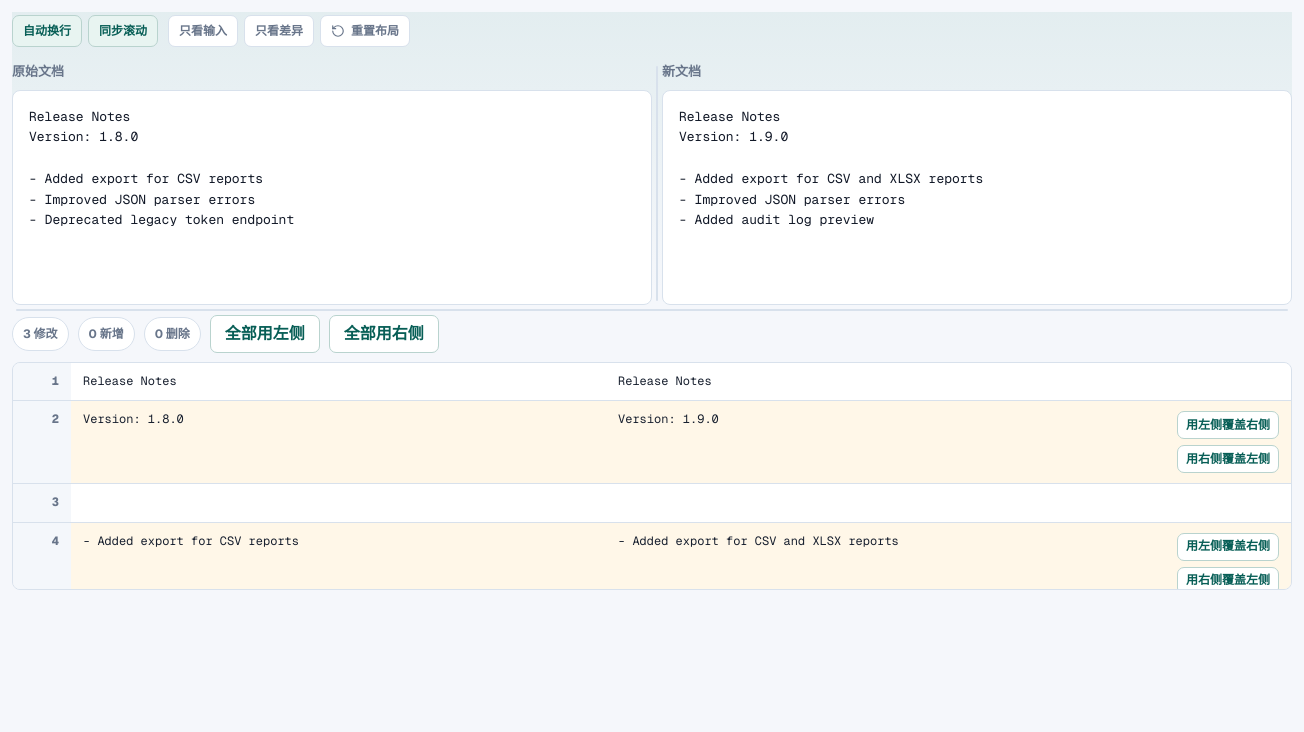
Test case: workbench keyboard and theme interactions › keeps both document editors when focusing on the input pane
What coordinates should you click on to do the following:
click the button "只看输入"
I would click on:
 (203, 31)
Its box is [168,15,238,47].
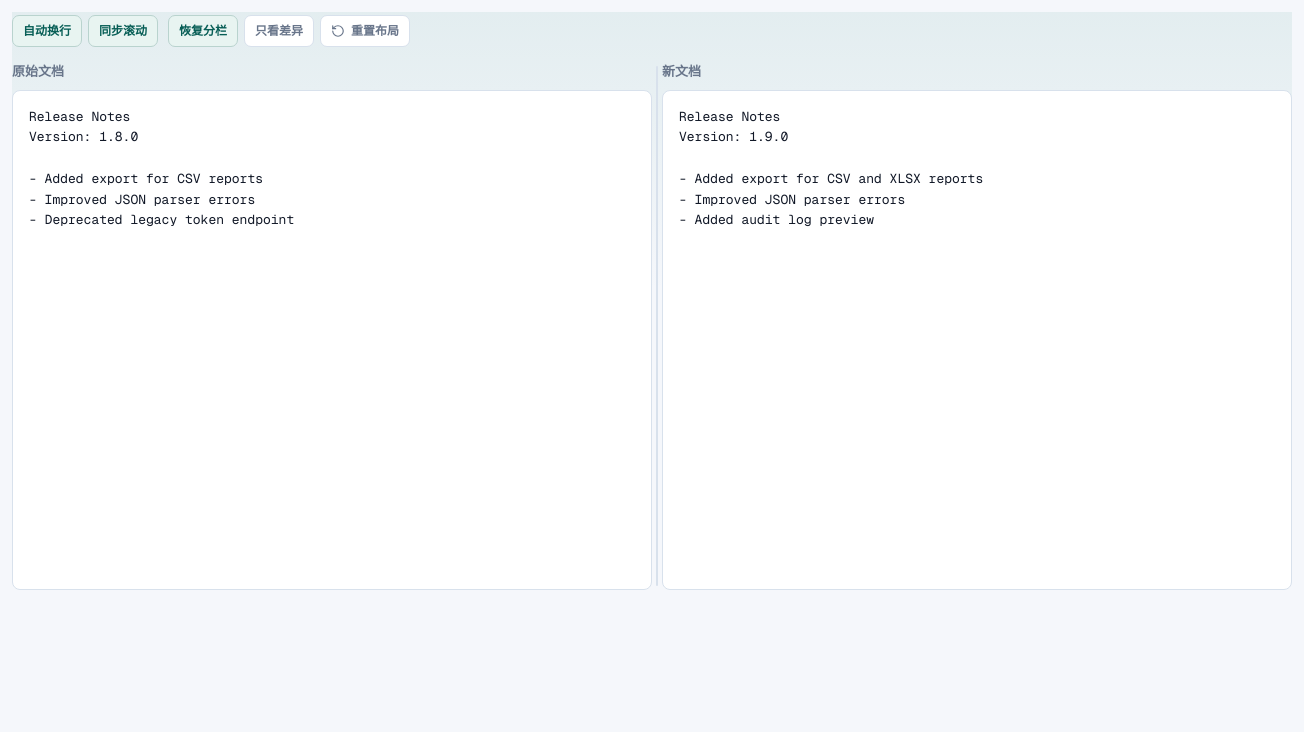
Expected: the text box labelled "原始文档" is shown, [12,90,652,590]
Expected: the table "文档差异结果" is gone
